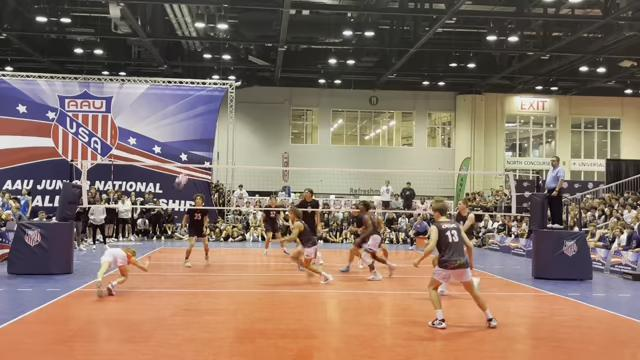difesa: (90, 241, 152, 303)
